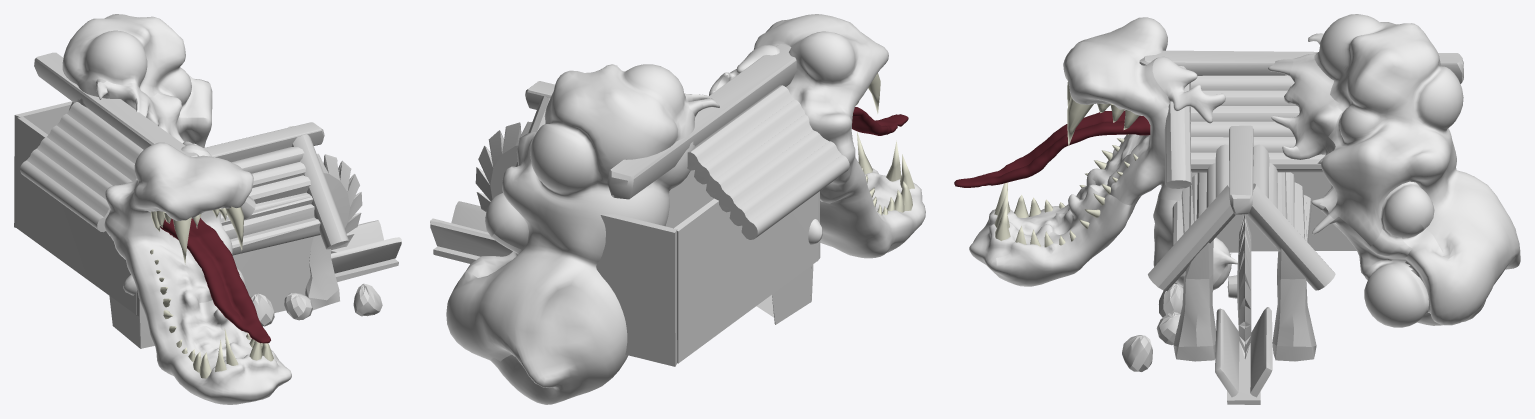
Rendered from domall.fbx.
3 views of the same model, side by side, from view 1: azimuth 30°, elevation 25°; view 2: azimuth 150°, elevation 25°; view 3: azimuth 270°, elevation 25° (orthographic). The views are drawn at different scales.
Visible parts, largest first — view 1: Cube_050, mieskoremeshed.001, Cube.046; view 2: mieskoremeshed.001, Cube_050, Cube.046; view 3: mieskoremeshed.001, Cube_050, Cube.046.
Part boxes in pixels (<box>): Cube_050: <box>14,52,401,348</box>; mieskoremeshed.001: <box>62,14,291,404</box>; Cube.046: <box>150,206,273,378</box>; mieskoremeshed.001: <box>446,14,925,404</box>; Cube_050: <box>430,44,849,366</box>; Cube.046: <box>852,73,914,215</box>; mieskoremeshed.001: <box>969,14,1520,327</box>; Cube_050: <box>1122,50,1463,404</box>; Cube.046: <box>954,82,1150,247</box>.
Size of the model in its own units: 2326 by 1776 by 3266.
